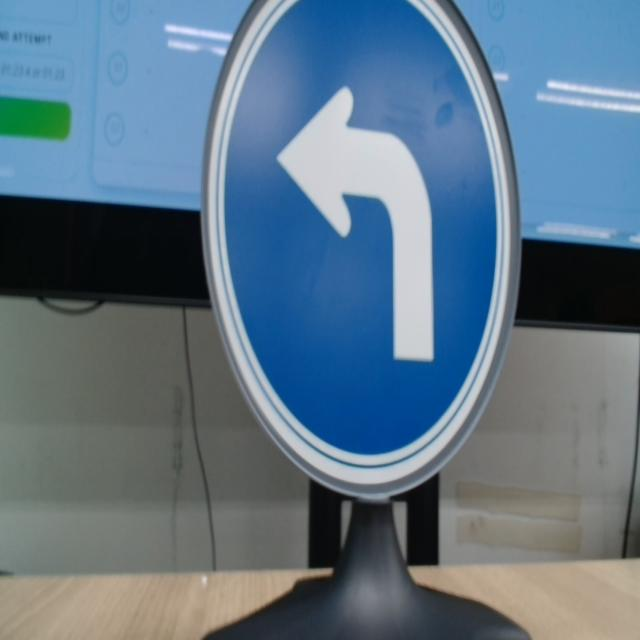left_direction: (200, 0, 517, 486)
